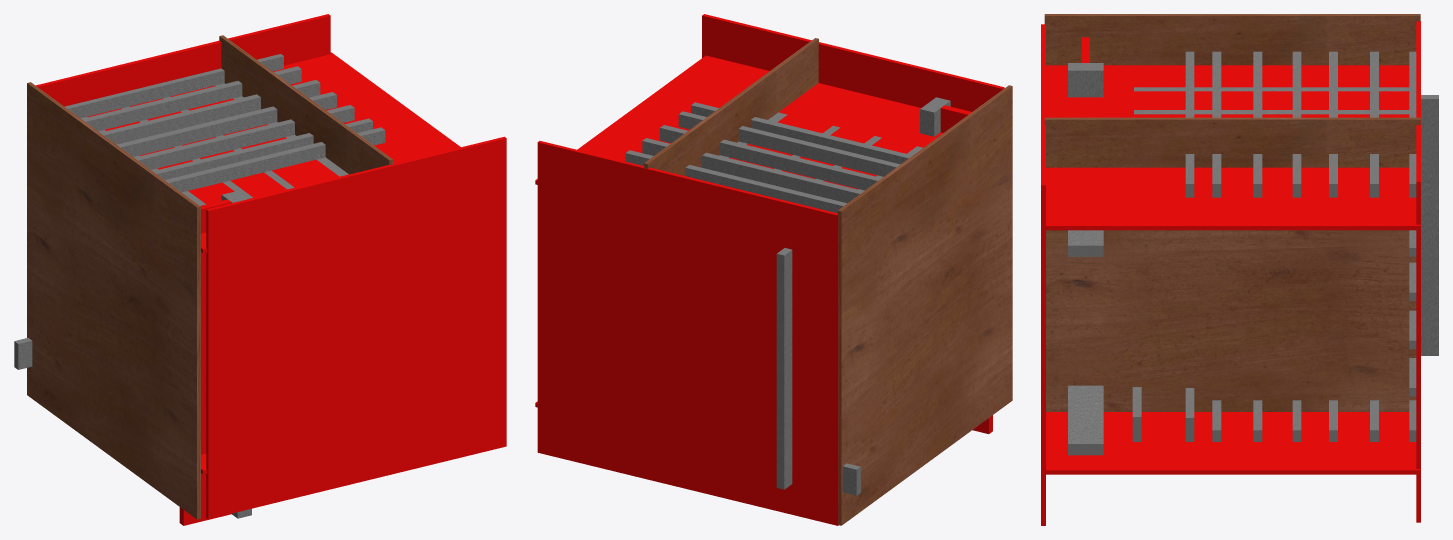
The model's file is Building.fbx.
The picture shows the model from 3 angles, left to right: view 1: azimuth 30°, elevation 25°; view 2: azimuth 150°, elevation 25°; view 3: azimuth 270°, elevation 25°; orthographic projection. The views are drawn at different scales.
Parts seen in each view (by area): view 1: Cube__17__1, Cube__9_, Cube__2_, Cube__10_, Cube, Cube__25_, Cube__28_, Cube__34_, Cube__27_, Cube__33_, Cube__35_, Cube__26_ (+1 smaller); view 2: Cube__10_, Cube__9_, Cube__2_, Cube__17__1, Cube, Cube__62_, Cube__26_, Cube__27_, Cube__28_, Cube__33_, Cube__25_, Cube__5_ (+2 smaller); view 3: Cube, Cube__2_, Cube__1_, Cube__9_, Cube__62_, Cube__4_, Cube__17__1, Cube__10_, Cube__5_, Cube__12_, Cube__64_, Cube__26_ (+9 smaller).
Boxes of the visible parts, x1,y1,x2,y2 form: Cube__17__1: (206,136,506,519); Cube__9_: (27,82,200,519); Cube__2_: (87,52,460,253); Cube__10_: (35,14,330,106); Cube: (219,35,393,174); Cube__25_: (165,127,385,192); Cube__28_: (117,92,336,156); Cube__34_: (81,66,301,131); Cube__27_: (134,105,354,169); Cube__33_: (100,80,320,144); Cube__35_: (65,54,283,118); Cube__26_: (153,118,372,179); Cube__10_: (537,141,838,525); Cube__9_: (837,85,1012,525); Cube__2_: (535,55,942,189); Cube__17__1: (702,14,1004,111); Cube: (644,38,818,175); Cube__62_: (776,248,792,489); Cube__26_: (678,111,900,176); Cube__27_: (660,125,881,190); Cube__28_: (642,138,863,203); Cube__33_: (625,150,846,213); Cube__25_: (691,102,912,164); Cube__5_: (920,97,950,136); Cube: (1044,117,1420,411); Cube__2_: (1046,65,1420,230); Cube__1_: (1046,412,1420,474); Cube__9_: (1044,14,1420,65); Cube__62_: (1421,95,1438,355); Cube__4_: (1068,385,1103,455); Cube__17__1: (1041,24,1045,525); Cube__10_: (1416,21,1420,522); Cube__5_: (1068,63,1103,97); Cube__12_: (1134,110,1409,114); Cube__64_: (1134,87,1409,91); Cube__26_: (1212,51,1221,197).
Size of the model in its own units: 8554 by 8414 by 8279.
